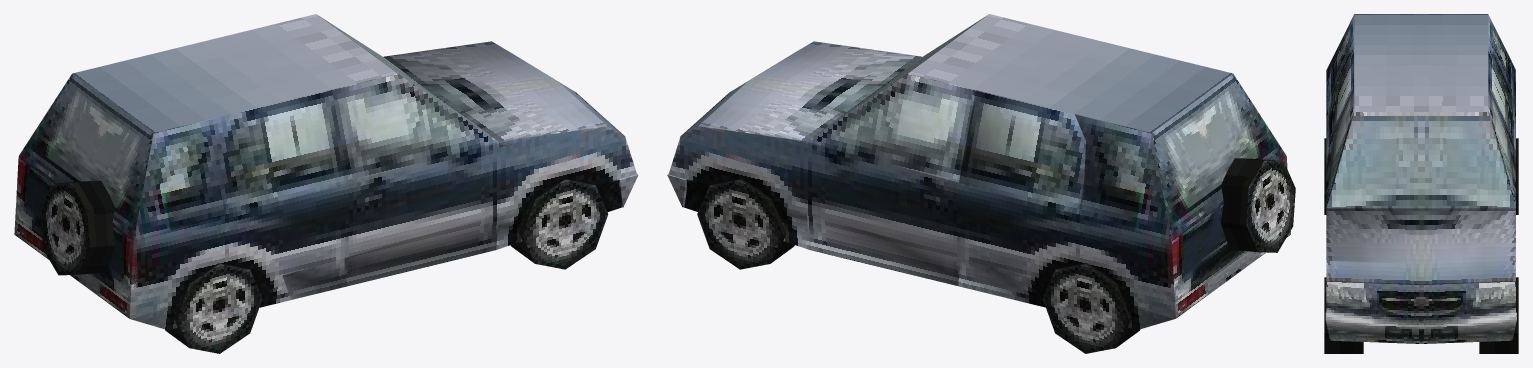
Rendered from suzuki_grand_vitara.glb.
3 renders of one model, left to right at view 1: azimuth 30°, elevation 25°; view 2: azimuth 150°, elevation 25°; view 3: azimuth 270°, elevation 25°, orthographic. The views are drawn at different scales.
Visible parts, largest first — view 1: metal-DoorFR-rigid, metal-DoorBR-rigid, metal-Roof-rigid, metal-Body-rigid, metal-Hood-rigid, glass-WindowBack-rigid, glass-WindowSideR-rigid, metal-TrunkDoor-rigid, tire-WheelSpare-rigid, tire-WheelFR-rigid, tire-WheelBR-rigid, glass-WindowFront-rigid; view 2: metal-DoorFL-rigid, metal-DoorBL-rigid, metal-Roof-rigid, metal-Body-rigid, metal-Hood-rigid, glass-WindowBack-rigid, glass-WindowSideL-rigid, metal-TrunkDoor-rigid, tire-WheelSpare-rigid, tire-WheelFL-rigid, tire-WheelBL-rigid, glass-WindowFront-rigid; view 3: glass-WindowFront-rigid, metal-Hood-rigid, metal-Roof-rigid, metal-Body-rigid, metal-Bumper-rigid, metal-DoorBR-rigid, metal-DoorBL-rigid, metal-DoorFR-rigid, metal-DoorFL-rigid, glass-WindowSideR-rigid, glass-WindowSideL-rigid, tire-WheelFL-rigid (+3 smaller).
Part boxes in pixels (<box>): metal-DoorFR-rigid: <box>329,73,498,285</box>; metal-DoorBR-rigid: <box>219,90,347,299</box>; metal-Roof-rigid: <box>72,14,396,132</box>; metal-Body-rigid: <box>129,126,636,329</box>; metal-Hood-rigid: <box>384,41,625,147</box>; glass-WindowBack-rigid: <box>27,73,153,222</box>; glass-WindowSideR-rigid: <box>134,114,230,240</box>; metal-TrunkDoor-rigid: <box>14,143,138,318</box>; tire-WheelSpare-rigid: <box>40,180,115,275</box>; tire-WheelFR-rigid: <box>510,179,608,269</box>; tire-WheelBR-rigid: <box>165,263,262,353</box>; glass-WindowFront-rigid: <box>318,15,495,139</box>; metal-DoorFL-rigid: <box>806,73,975,285</box>; metal-DoorBL-rigid: <box>958,90,1085,299</box>; metal-Roof-rigid: <box>908,14,1232,132</box>; metal-Body-rigid: <box>669,126,1290,329</box>; metal-Hood-rigid: <box>680,41,921,141</box>; glass-WindowBack-rigid: <box>1152,74,1277,222</box>; glass-WindowSideL-rigid: <box>1074,114,1171,240</box>; metal-TrunkDoor-rigid: <box>1165,143,1290,318</box>; tire-WheelSpare-rigid: <box>1220,158,1295,252</box>; tire-WheelFL-rigid: <box>697,178,794,269</box>; tire-WheelBL-rigid: <box>1042,263,1140,353</box>; glass-WindowFront-rigid: <box>809,16,985,139</box>; glass-WindowFront-rigid: <box>1327,112,1515,208</box>; metal-Hood-rigid: <box>1326,208,1515,284</box>; metal-Roof-rigid: <box>1354,14,1488,111</box>; metal-Body-rigid: <box>1326,281,1515,322</box>; metal-Bumper-rigid: <box>1325,312,1516,343</box>; metal-DoorBR-rigid: <box>1326,45,1354,150</box>; metal-DoorBL-rigid: <box>1488,45,1515,149</box>; metal-DoorFR-rigid: <box>1326,85,1354,207</box>; metal-DoorFL-rigid: <box>1488,85,1515,207</box>; glass-WindowSideR-rigid: <box>1326,14,1354,104</box>; glass-WindowSideL-rigid: <box>1488,15,1515,104</box>; tire-WheelFL-rigid: <box>1479,277,1518,353</box>.
Bounding box in the file's own units: 6.98 × 2.68 × 2.62.
7 materials, 7 textured.
